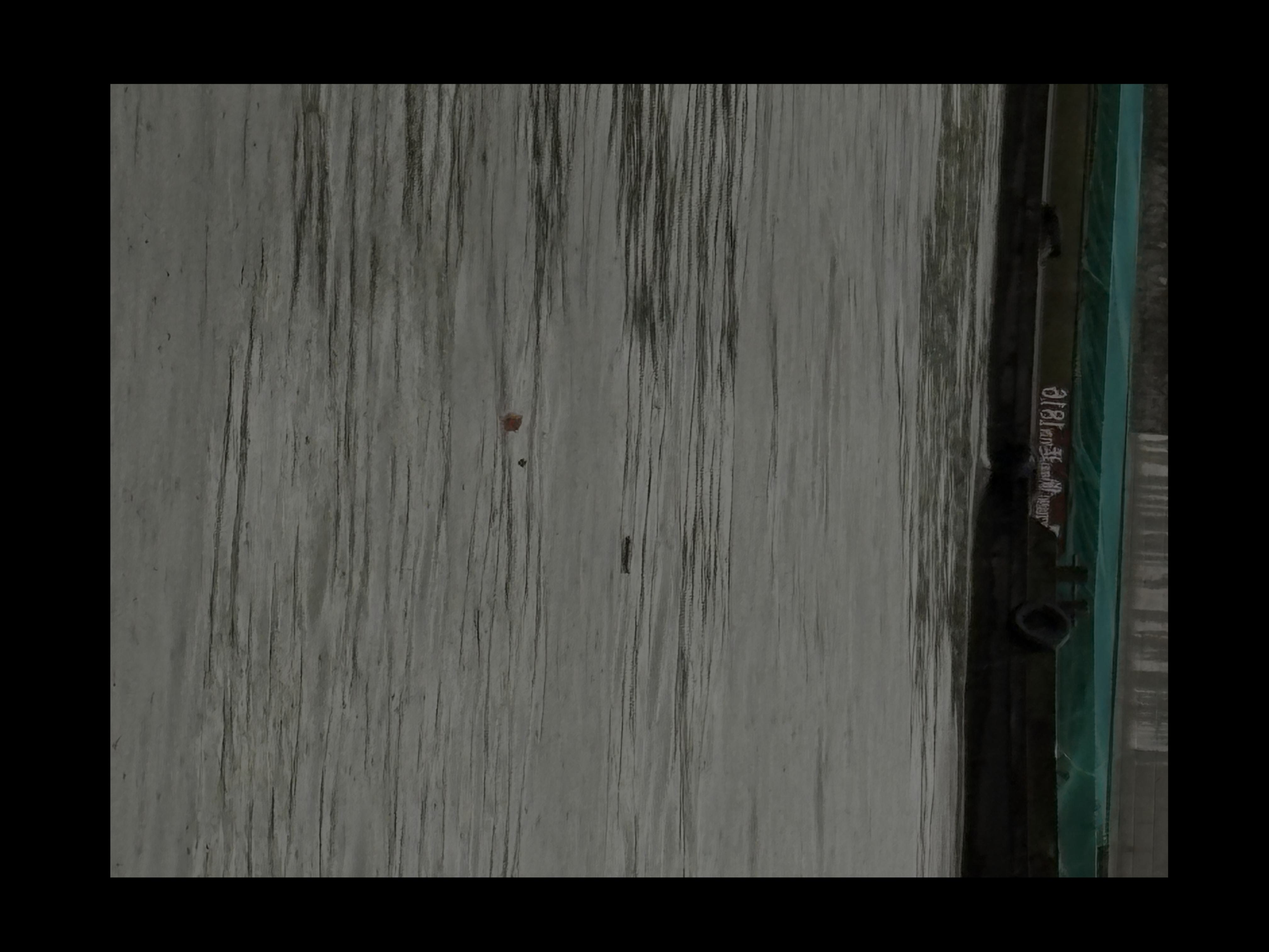Natural wastes: (889, 391, 919, 421), (1006, 513, 1029, 550)
